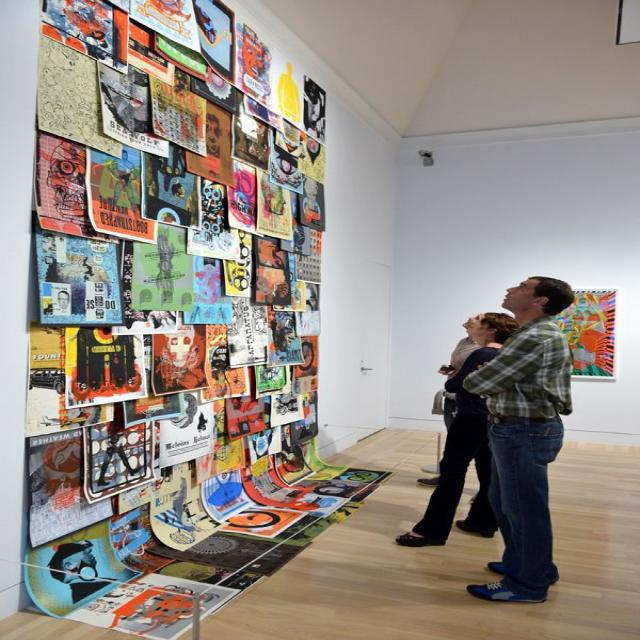body: (460, 275, 579, 605), (394, 312, 520, 548), (434, 312, 519, 477), (412, 474, 490, 507)
